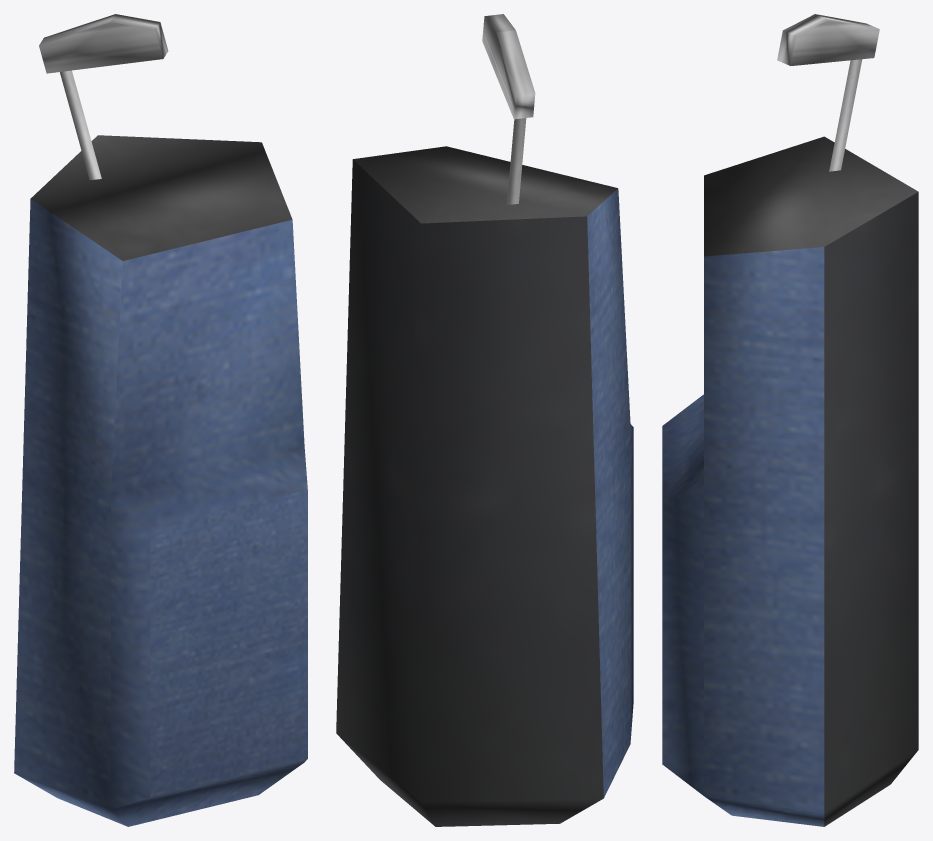
The model's file is GolfBag.fbx.
3 views of the same model, side by side, from view 1: azimuth 30°, elevation 25°; view 2: azimuth 150°, elevation 25°; view 3: azimuth 270°, elevation 25° (orthographic). The views are drawn at different scales.
Parts seen in each view (by area): view 1: Maya_File_Assets:TexturedAssetsCurrent:QuentonAssets02:GolfB; view 2: Maya_File_Assets:TexturedAssetsCurrent:QuentonAssets02:GolfB; view 3: Maya_File_Assets:TexturedAssetsCurrent:QuentonAssets02:GolfB.
Part boxes in pixels (x1,y1,x2,y2): Maya_File_Assets:TexturedAssetsCurrent:QuentonAssets02:GolfB: [14, 14, 307, 826]; Maya_File_Assets:TexturedAssetsCurrent:QuentonAssets02:GolfB: [336, 14, 633, 826]; Maya_File_Assets:TexturedAssetsCurrent:QuentonAssets02:GolfB: [662, 14, 918, 826].
Size of the model in its own units: 0.4136 by 1.15 by 0.3554.
